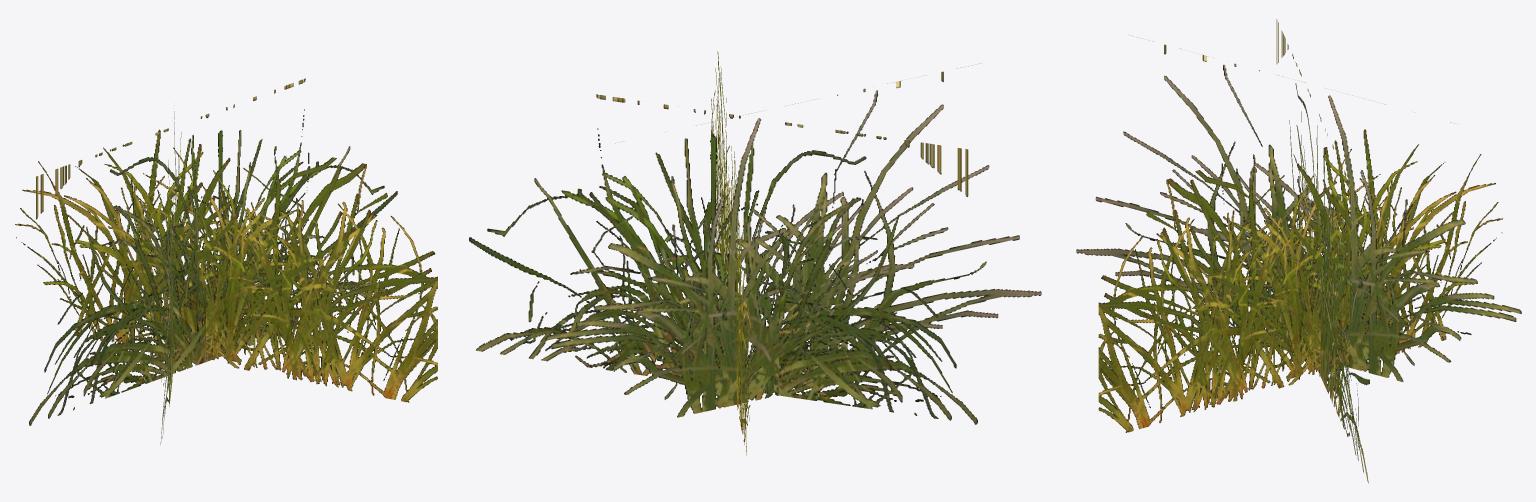
The model's file is grass_clump_1.glb.
3 renders of one model, left to right at view 1: azimuth 30°, elevation 25°; view 2: azimuth 150°, elevation 25°; view 3: azimuth 270°, elevation 25°, orthographic. The views are drawn at different scales.
Parts seen in each view (by area): view 1: GrassClump; view 2: GrassClump; view 3: GrassClump.
Boxes of the visible parts, bbox=[...] form: GrassClump: bbox=[15, 78, 437, 444]; GrassClump: bbox=[469, 51, 1041, 455]; GrassClump: bbox=[1076, 19, 1521, 483].
Size of the model in its own units: 0.8994 by 0.5349 by 0.7954.
1 material, 1 textured.
